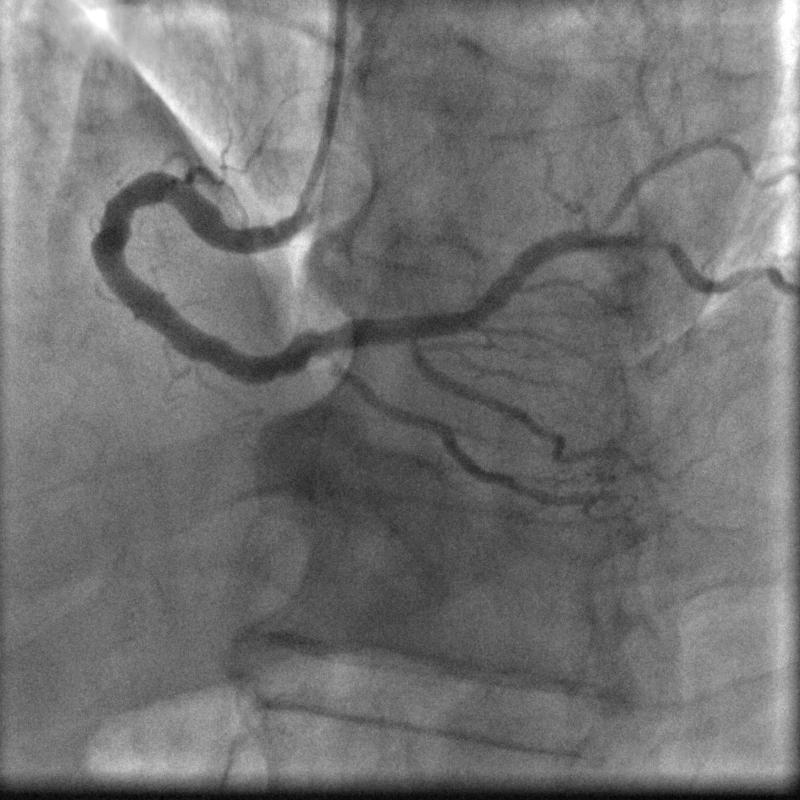Stenosis: (619, 226, 676, 256)
